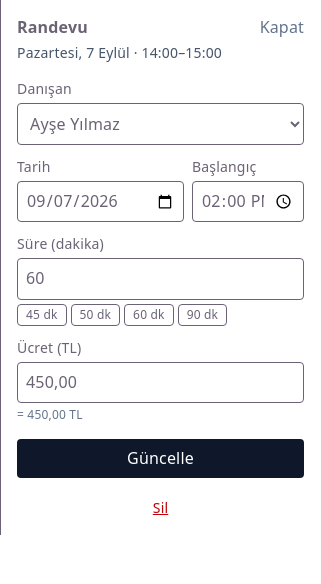
RandevuPaneli › I2: sayi alinamazsa onay kutusu ACILMAZ
Click the button "Sil": x=160, y=508 [17,498,304,518]
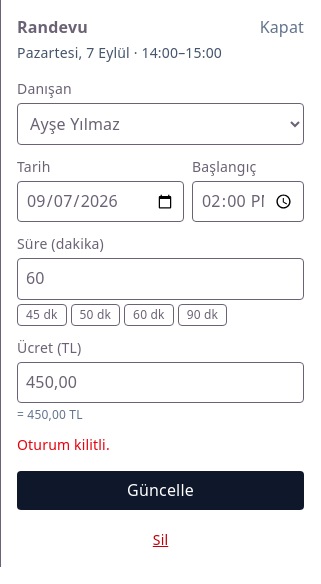
Check: the text "Oturum kilitli." is shown, box [17,435,110,454]
